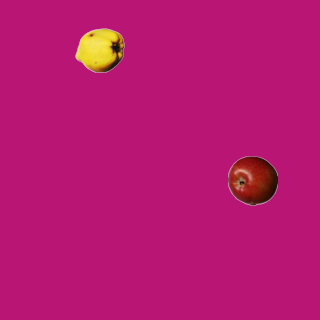Apple Braeburn: (227, 155, 277, 205)
Quince: (74, 25, 124, 75)
